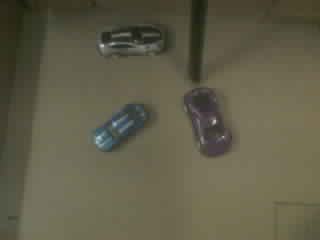Car: (185, 88, 231, 156), (94, 104, 147, 151), (98, 25, 164, 55)
